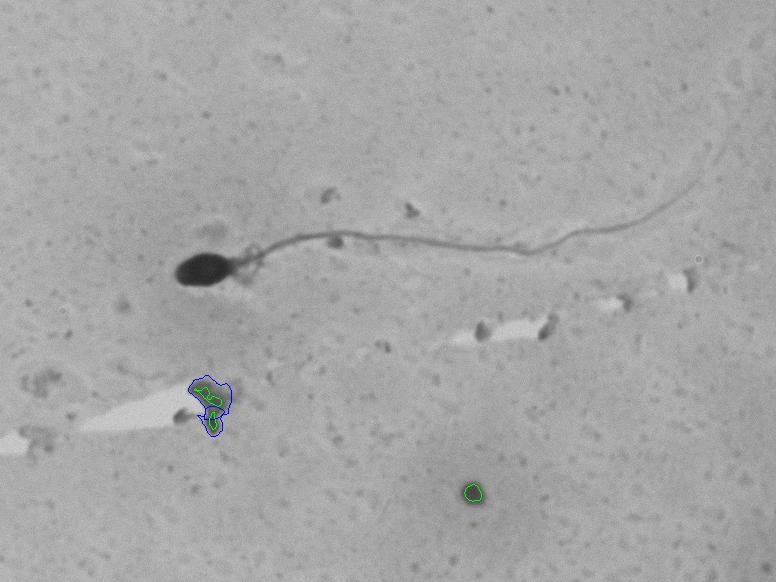Normal: (151, 115, 722, 315)
